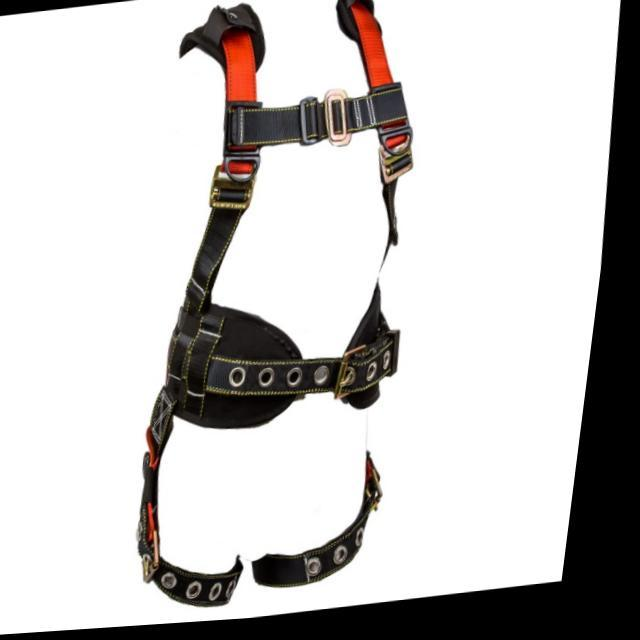belt: (90, 0, 473, 626)
